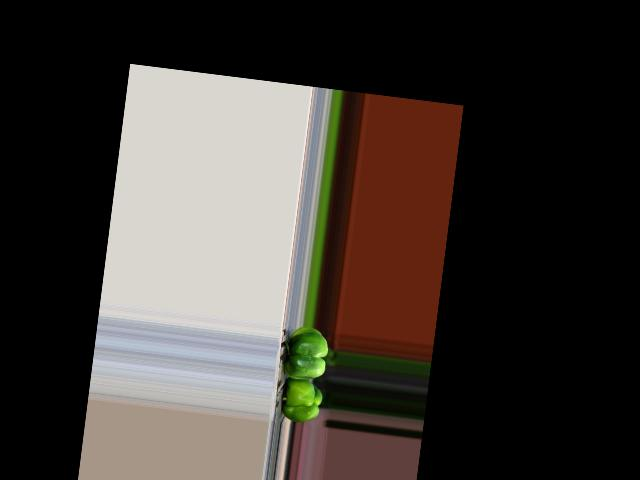bell_pepper: (276, 376, 326, 426)
